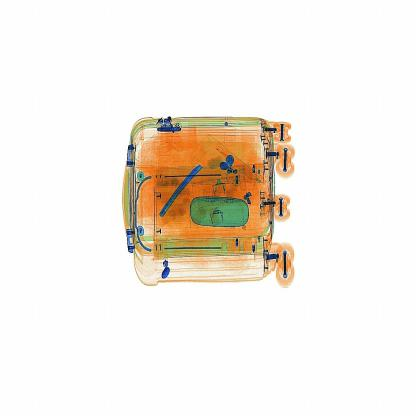pliers: (152, 155, 212, 227)
